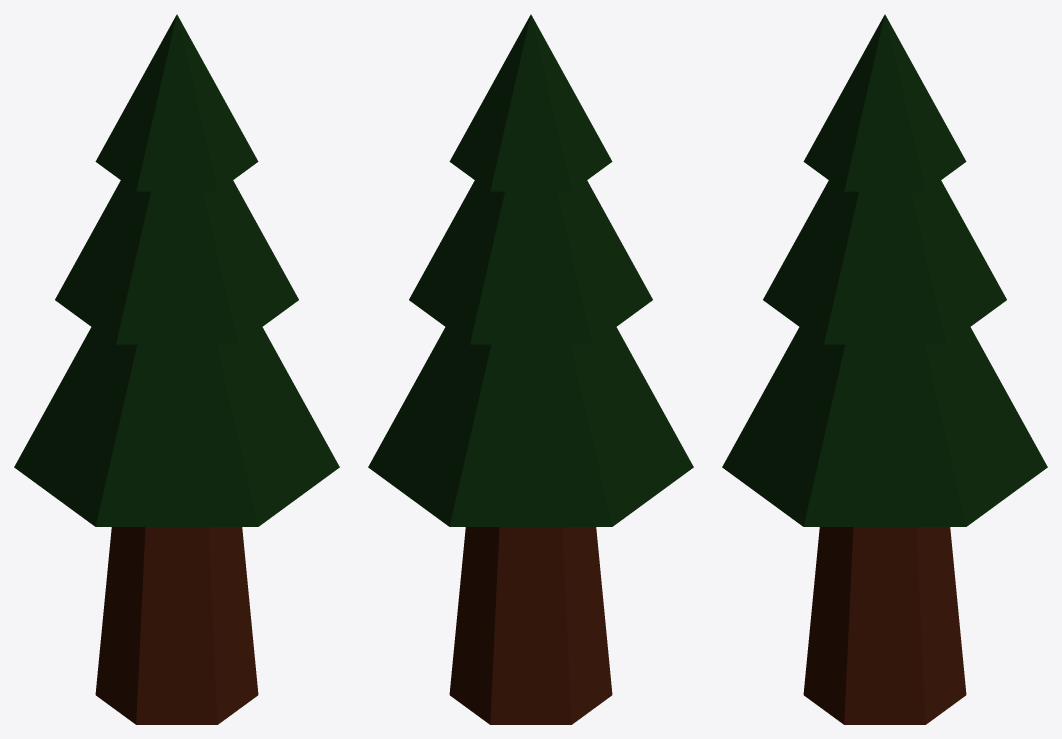
File: boom.obj
3 renders of one model, left to right at view 1: azimuth 30°, elevation 25°; view 2: azimuth 150°, elevation 25°; view 3: azimuth 270°, elevation 25°, orthographic.
Visible parts, largest first — view 1: Kegel, Kegel.002, Cylinder, Kegel.001; view 2: Kegel, Kegel.002, Cylinder, Kegel.001; view 3: Kegel, Kegel.002, Cylinder, Kegel.001.
Part boxes in pixels (x1,y1,x2,y2): Kegel: [14, 327, 339, 526]; Kegel.002: [55, 180, 298, 344]; Cylinder: [95, 527, 258, 724]; Kegel.001: [95, 14, 258, 191]; Kegel: [368, 327, 693, 526]; Kegel.002: [409, 180, 652, 344]; Cylinder: [449, 527, 612, 724]; Kegel.001: [449, 14, 612, 191]; Kegel: [722, 327, 1047, 526]; Kegel.002: [763, 180, 1006, 344]; Cylinder: [803, 527, 966, 724]; Kegel.001: [803, 14, 966, 191].
Size of the model in its own units: 1.73 by 4.61 by 2.
